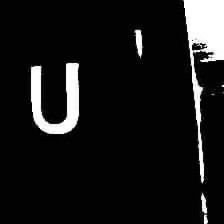LTR_U: (24, 60, 82, 136)
